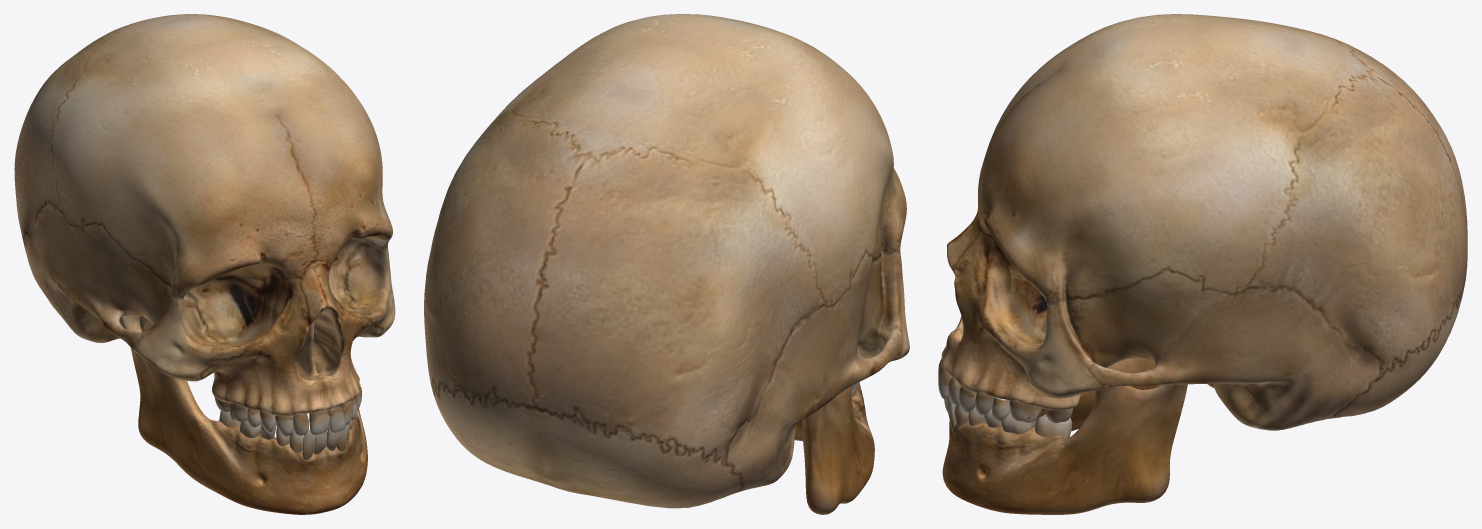
File: skull.glb
3 views of the same model, side by side, from view 1: azimuth 30°, elevation 25°; view 2: azimuth 150°, elevation 25°; view 3: azimuth 270°, elevation 25° (orthographic). The views are drawn at different scales.
Visible parts, largest first — view 1: skull; view 2: skull; view 3: skull.
Part boxes in pixels (x1,y1,x2,y2): skull: (14, 14, 395, 514); skull: (424, 14, 909, 514); skull: (938, 14, 1467, 514).
Size of the model in its own units: 1.49 by 2.07 by 2.22.
1 material, 1 textured.
